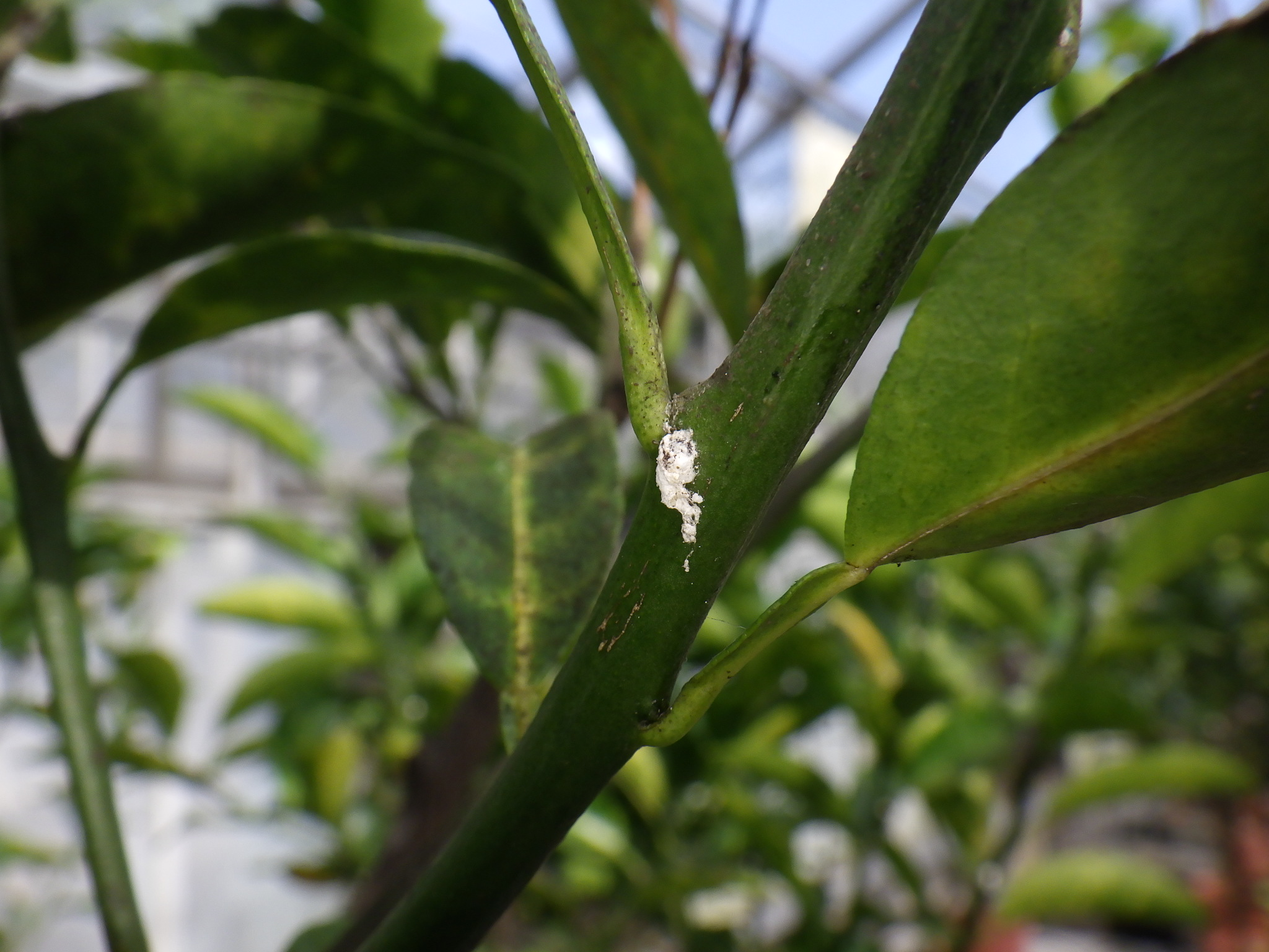Scale_Insect: (656, 430, 703, 543)
